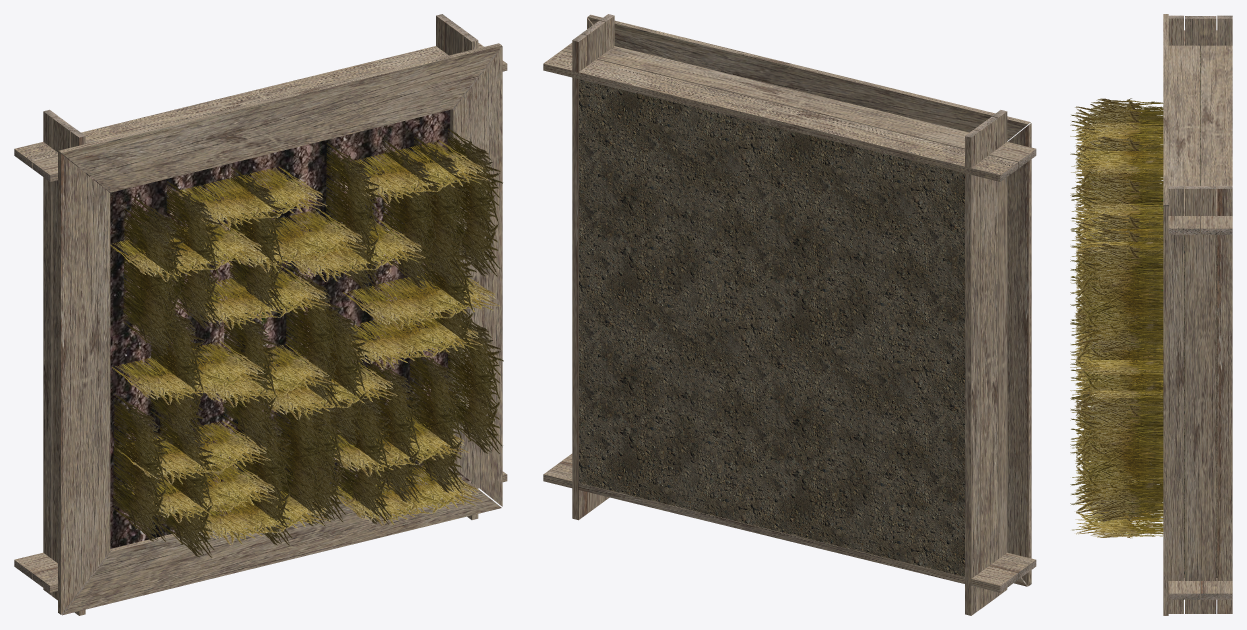
Rendered from 2 sprite ripe.dae.
The picture shows the model from 3 angles, left to right: view 1: azimuth 30°, elevation 25°; view 2: azimuth 150°, elevation 25°; view 3: azimuth 270°, elevation 25°; orthographic projection. The views are drawn at different scales.
Visible parts, largest first — view 1: dirt, top_2_Cube_022, top_1_Cube_016, top_3_Cube_021, top_4_Cube_023, Cube_038_Cube_130, plank_01_Cube_02, Cube_034_Cube_126, Cube_032_Cube_112, Cube_031_Cube_104, Cube_036_Cube_128, Cube_024_Cube_095 (+35 smaller); view 2: dirt, plank_01_Cube_02, top_2_Cube_022, top_1_Cube_016, plank_04_Cube_006, plank_02_Cube_03, plank_03_Cube_004, plank_06_Cube_009, plank_05_Cube_007, plank_08_Cube_011, plank_09_Cube_013, plank_07_Cube_010; view 3: plank_09_Cube_013, Cube_036_Cube_128, Cube_035_Cube_127, plank_08_Cube_011, plank_10_Cube_014, plank_01_Cube_02, plank_02_Cube_03, Cube_027_Cube_103, Cube_032_Cube_112, Cube_033_Cube_111, Cube_019_Cube_096, top_4_Cube_023 (+22 smaller).
Part boxes in pixels (x1=…): dirt: x1=86, y1=110, x2=470, y2=548; top_2_Cube_022: x1=58, y1=152, x2=110, y2=614; top_1_Cube_016: x1=59, y1=43, x2=501, y2=192; top_3_Cube_021: x1=61, y1=467, x2=501, y2=615; top_4_Cube_023: x1=450, y1=46, x2=502, y2=506; Cube_038_Cube_130: x1=113, y1=394, x2=170, y2=541; plank_01_Cube_02: x1=14, y1=43, x2=483, y2=168; Cube_034_Cube_126: x1=123, y1=208, x2=180, y2=356; Cube_032_Cube_112: x1=170, y1=166, x2=327, y2=229; Cube_031_Cube_104: x1=409, y1=351, x2=465, y2=493; Cube_036_Cube_128: x1=447, y1=317, x2=503, y2=454; Cube_024_Cube_095: x1=326, y1=143, x2=381, y2=290; dirt: x1=579, y1=79, x2=964, y2=576; plank_01_Cube_02: x1=543, y1=50, x2=1017, y2=181; top_2_Cube_022: x1=1007, y1=123, x2=1031, y2=585; top_1_Cube_016: x1=588, y1=14, x2=1030, y2=140; plank_04_Cube_006: x1=974, y1=116, x2=998, y2=609; plank_02_Cube_03: x1=561, y1=43, x2=1036, y2=168; plank_03_Cube_004: x1=965, y1=130, x2=979, y2=615; plank_06_Cube_009: x1=543, y1=461, x2=1017, y2=592; plank_05_Cube_007: x1=992, y1=110, x2=1007, y2=595; plank_08_Cube_011: x1=572, y1=34, x2=587, y2=520; plank_09_Cube_013: x1=581, y1=20, x2=605, y2=513; plank_07_Cube_010: x1=561, y1=453, x2=1036, y2=579; plank_09_Cube_013: x1=1185, y1=186, x2=1216, y2=613; Cube_036_Cube_128: x1=1070, y1=401, x2=1163, y2=511; Cube_035_Cube_127: x1=1070, y1=243, x2=1163, y2=352; plank_08_Cube_011: x1=1217, y1=186, x2=1232, y2=613; plank_10_Cube_014: x1=1168, y1=186, x2=1183, y2=613; plank_01_Cube_02: x1=1201, y1=30, x2=1232, y2=234; plank_02_Cube_03: x1=1168, y1=30, x2=1199, y2=234; Cube_027_Cube_103: x1=1070, y1=307, x2=1163, y2=414; Cube_032_Cube_112: x1=1071, y1=123, x2=1163, y2=174; Cube_033_Cube_111: x1=1070, y1=203, x2=1163, y2=254; Cube_019_Cube_096: x1=1070, y1=136, x2=1163, y2=236; top_4_Cube_023: x1=1163, y1=206, x2=1168, y2=615.
Size of the model in its own units: 3.68 by 3.68 by 1.29.
Materials: 4 (4 with a texture image).
